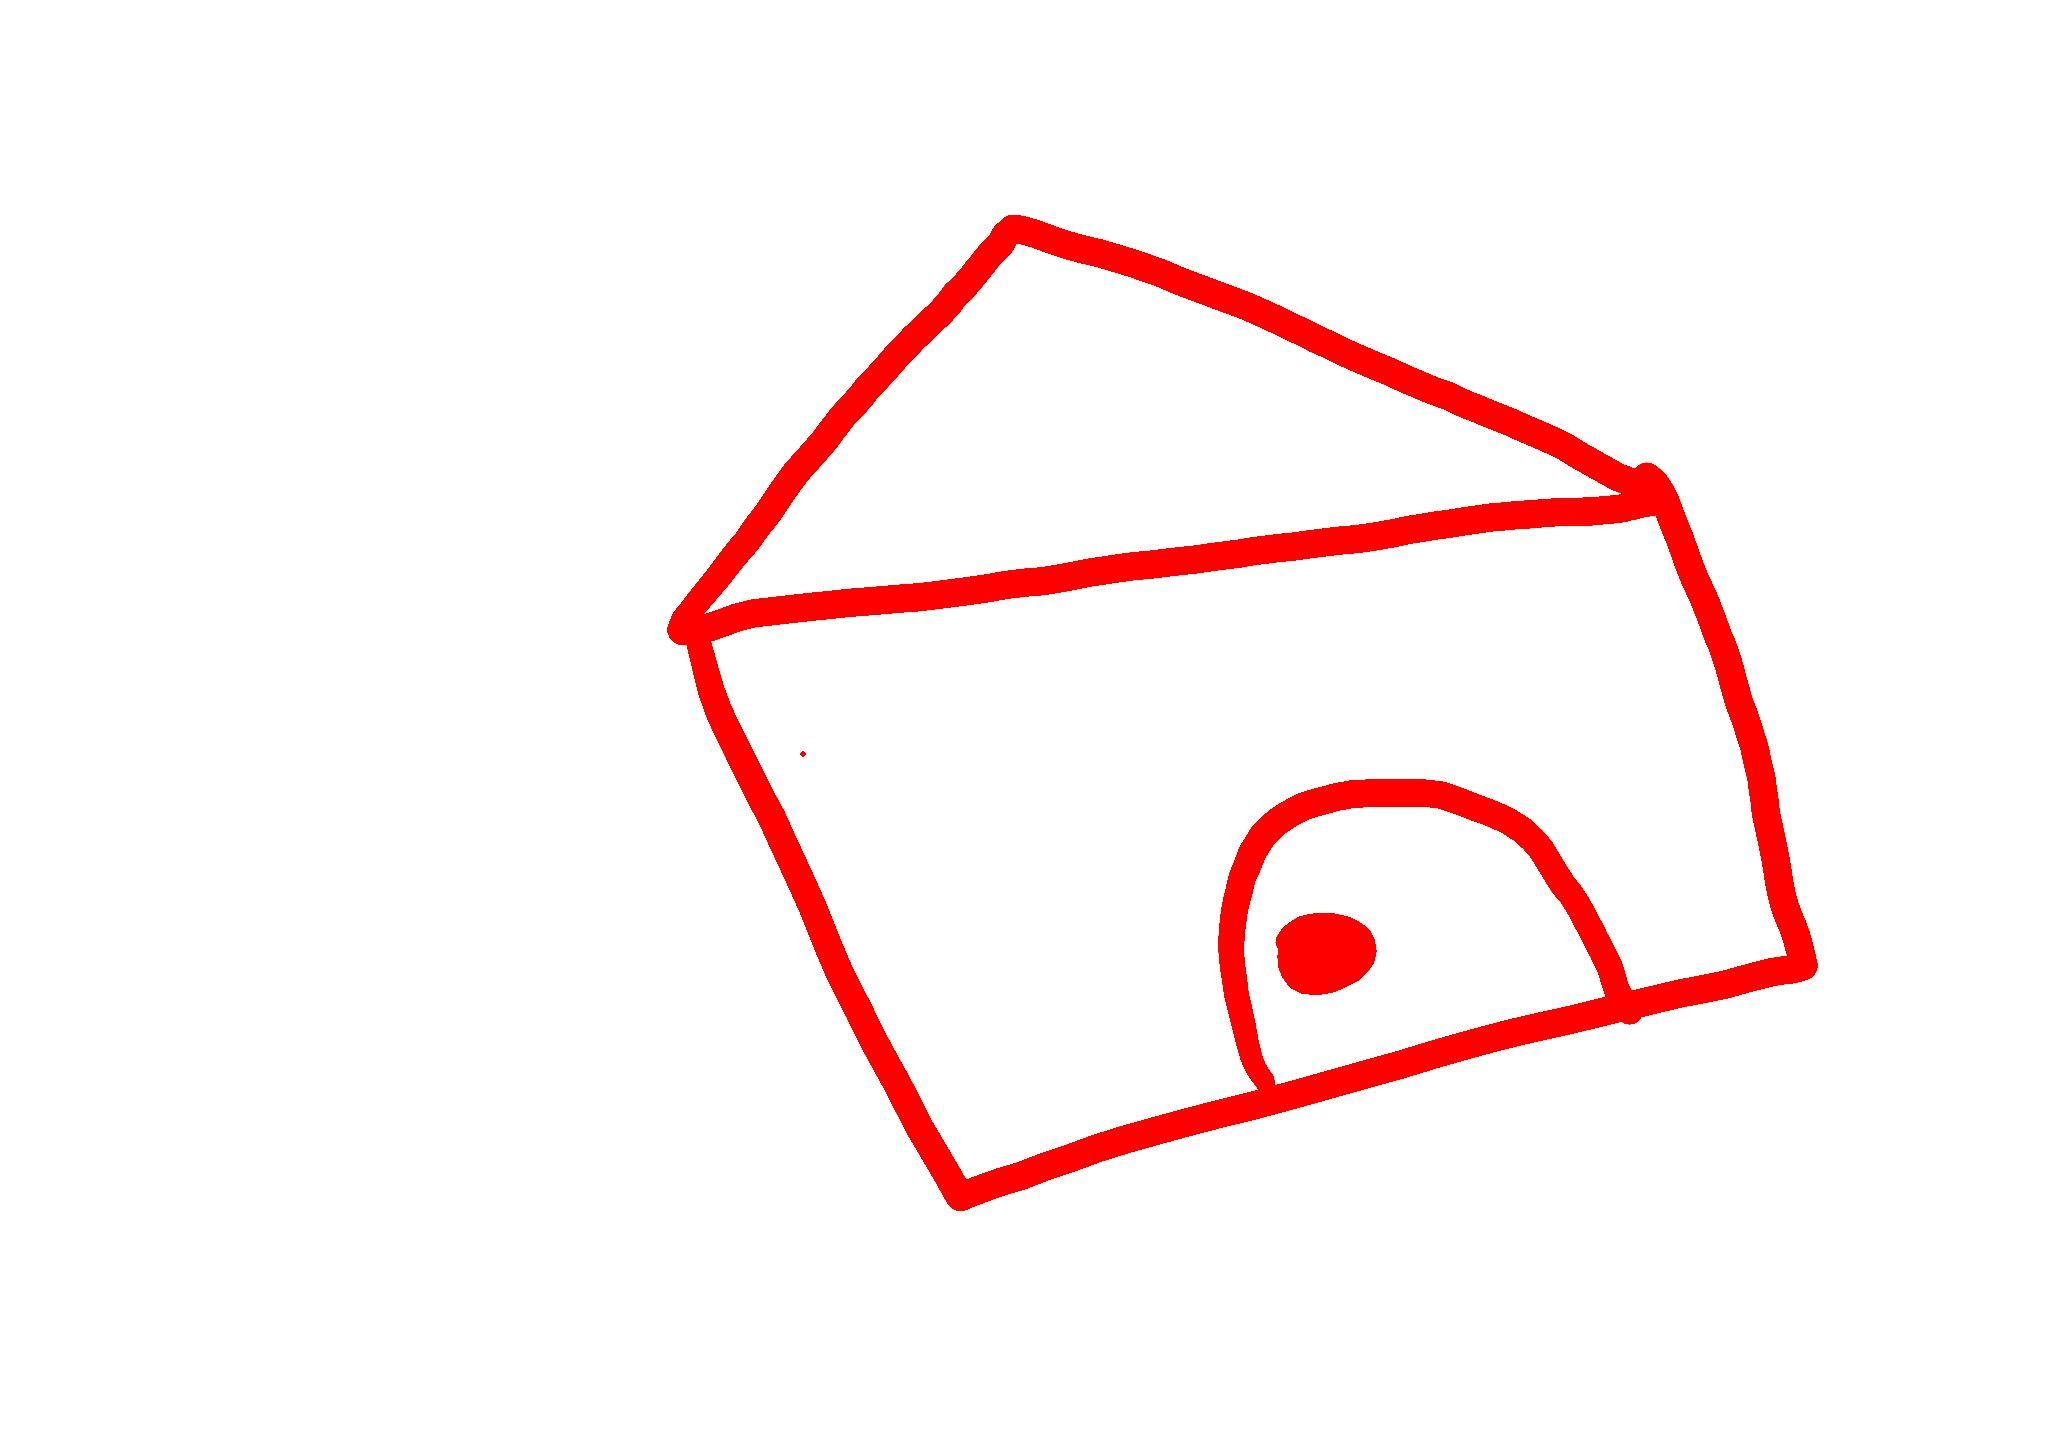door: (1225, 792, 1606, 1084)
house: (670, 213, 1821, 1211)
roof: (729, 248, 1603, 599)
wall: (699, 517, 1796, 1206)
